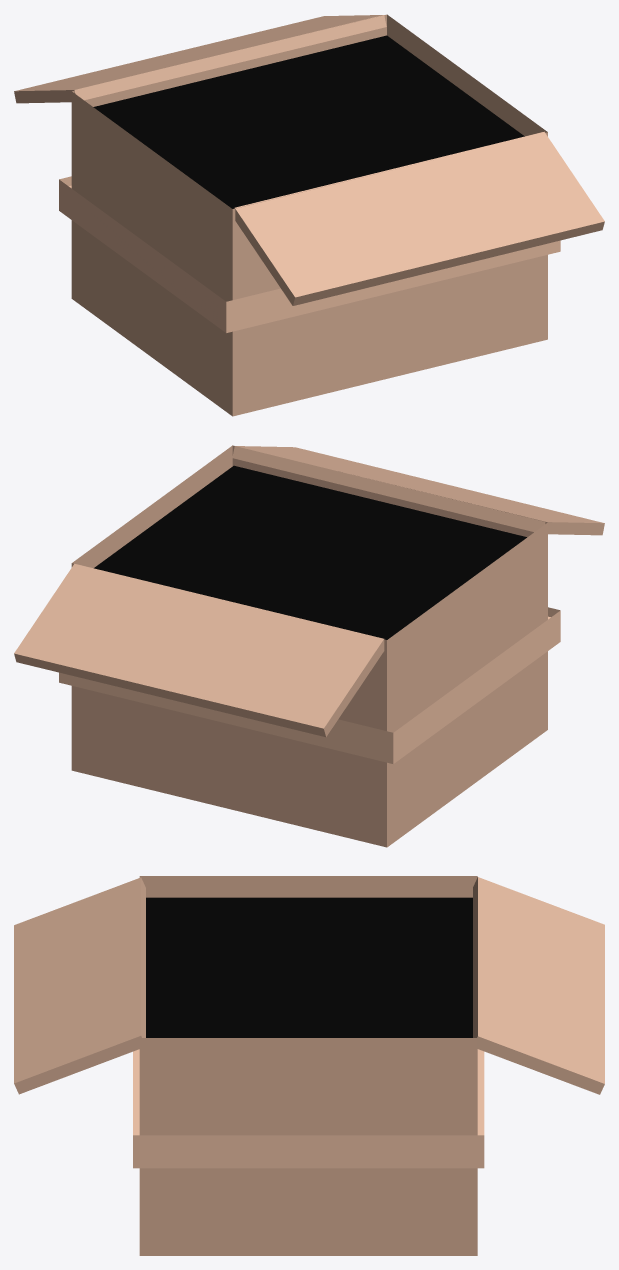
The picture shows the model from 3 angles, top to bottom: view 1: azimuth 30°, elevation 25°; view 2: azimuth 150°, elevation 25°; view 3: azimuth 270°, elevation 25°; orthographic projection. The views are drawn at different scales.
Visible parts, largest first — view 1: Cube, Plane, Cube.002, Cube.003, Cube.001; view 2: Cube, Plane, Cube.001, Cube.003, Cube.002; view 3: Cube, Plane, Cube.001, Cube.002, Cube.003.
Boxes of the visible parts, box(x1,y1,x2,y2) form: Cube: box(71, 14, 547, 416); Plane: box(93, 35, 524, 208); Cube.002: box(234, 131, 604, 305); Cube.003: box(59, 176, 560, 332); Cube.001: box(14, 15, 386, 103); Cube: box(71, 445, 547, 847); Plane: box(94, 465, 526, 639); Cube.001: box(14, 563, 384, 737); Cube.003: box(59, 607, 560, 764); Cube.002: box(232, 446, 604, 535); Cube: box(139, 876, 477, 1255); Plane: box(146, 897, 472, 1037); Cube.001: box(473, 877, 604, 1094); Cube.002: box(14, 877, 145, 1094); Cube.003: box(133, 1049, 484, 1168).
Size of the model in its own units: 337 by 201 by 491.
